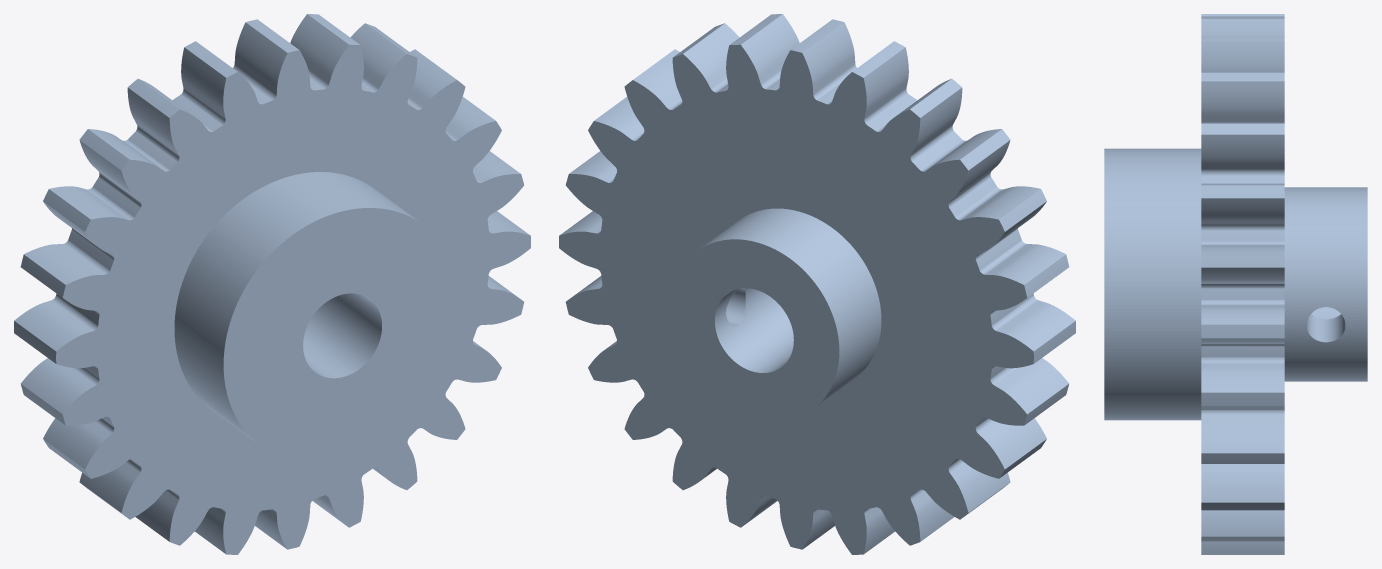
File: zupcanik2_potenciometar.obj
3 views of the same model, side by side, from view 1: azimuth 30°, elevation 25°; view 2: azimuth 150°, elevation 25°; view 3: azimuth 270°, elevation 25° (orthographic).
Parts seen in each view (by area): view 1: zupcanik2_potenciometar; view 2: zupcanik2_potenciometar; view 3: zupcanik2_potenciometar.
Boxes of the visible parts, x1,y1,x2,y2 form: zupcanik2_potenciometar: [14, 14, 530, 554]; zupcanik2_potenciometar: [559, 14, 1075, 554]; zupcanik2_potenciometar: [1104, 14, 1367, 554].
Bounding box in the file's own units: 39.09 × 39.09 × 19.
